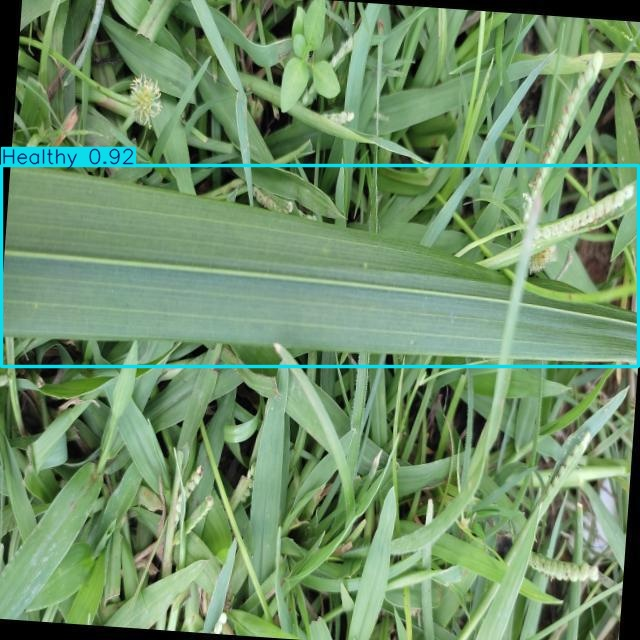Healthy: (1, 165, 639, 366)
